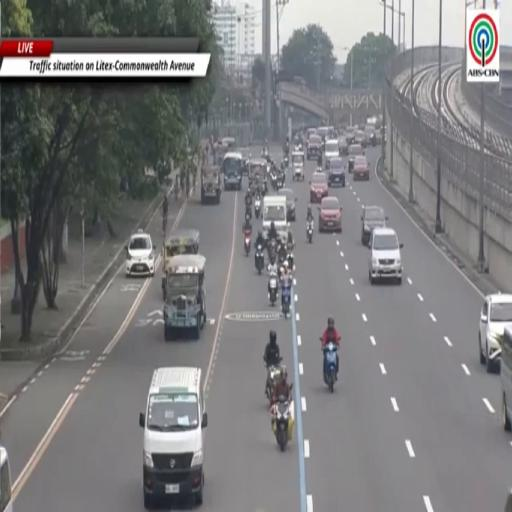bus: (0, 445, 12, 511)
car: (479, 294, 511, 373), (369, 228, 402, 284), (125, 230, 155, 277), (501, 325, 511, 431), (361, 206, 387, 245), (319, 197, 342, 232), (279, 188, 296, 221), (310, 172, 328, 202), (328, 157, 345, 187), (325, 139, 339, 169), (348, 144, 363, 172), (236, 148, 251, 175), (353, 156, 369, 181), (307, 134, 321, 159), (317, 126, 332, 148), (365, 125, 376, 146), (354, 131, 367, 147), (339, 136, 348, 155), (346, 128, 354, 146), (505, 489, 511, 511), (306, 128, 316, 140)
jeepney: (164, 254, 206, 341), (162, 229, 199, 299), (201, 166, 221, 205), (222, 153, 242, 190), (248, 158, 267, 194), (216, 137, 235, 165), (291, 152, 305, 181)
motorcycle: (273, 396, 293, 451), (323, 342, 337, 392), (265, 365, 281, 405), (268, 274, 278, 306), (255, 245, 264, 275), (282, 286, 290, 318), (268, 238, 276, 261), (306, 221, 314, 243), (244, 230, 251, 255), (287, 251, 294, 270), (276, 174, 284, 190), (278, 264, 284, 282), (271, 174, 277, 190), (255, 199, 260, 218), (283, 155, 288, 167), (262, 149, 268, 158)
truck: (262, 196, 287, 238)
